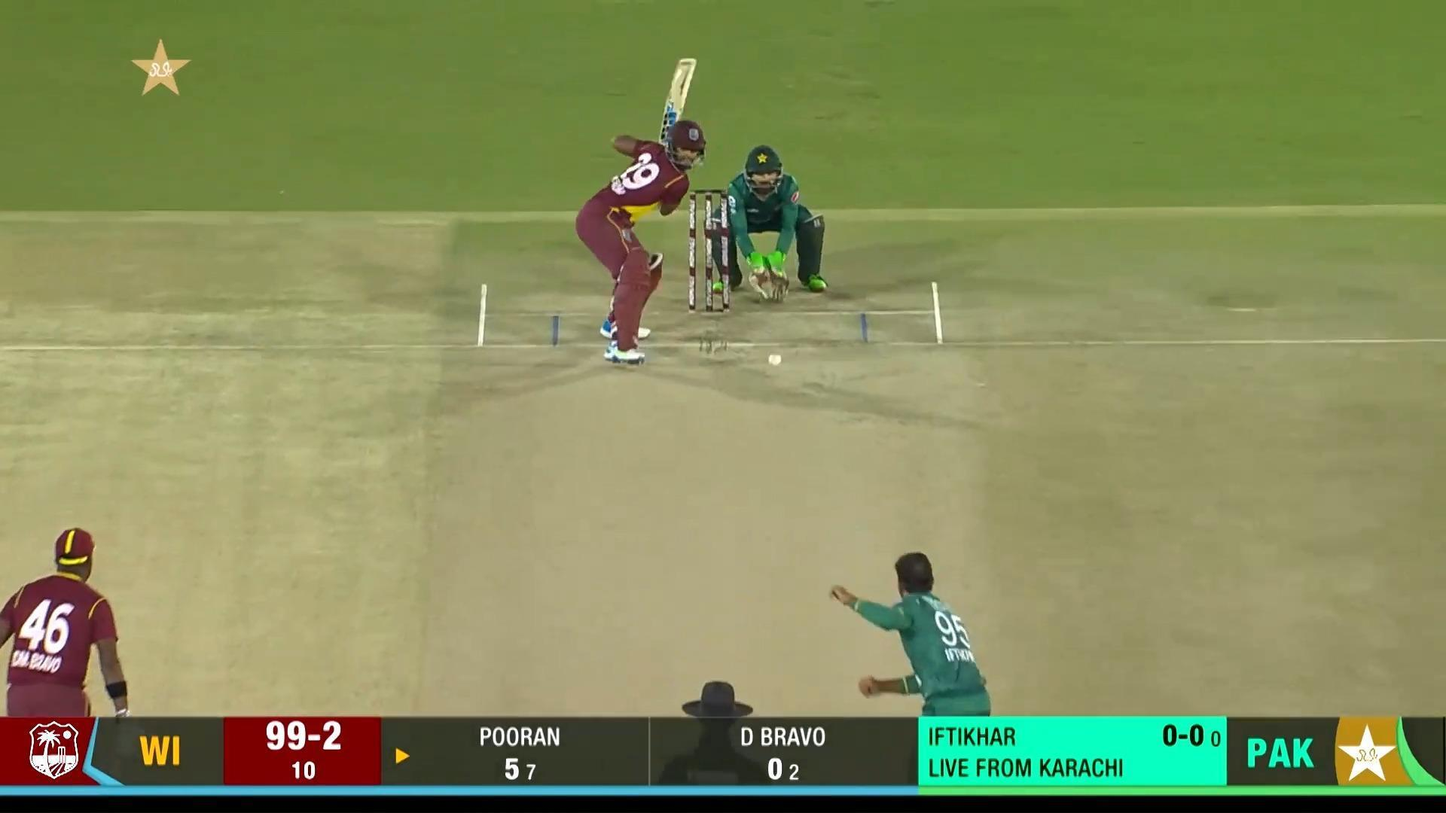BM 1: (574, 57, 707, 367)
BO: (828, 550, 992, 716)
